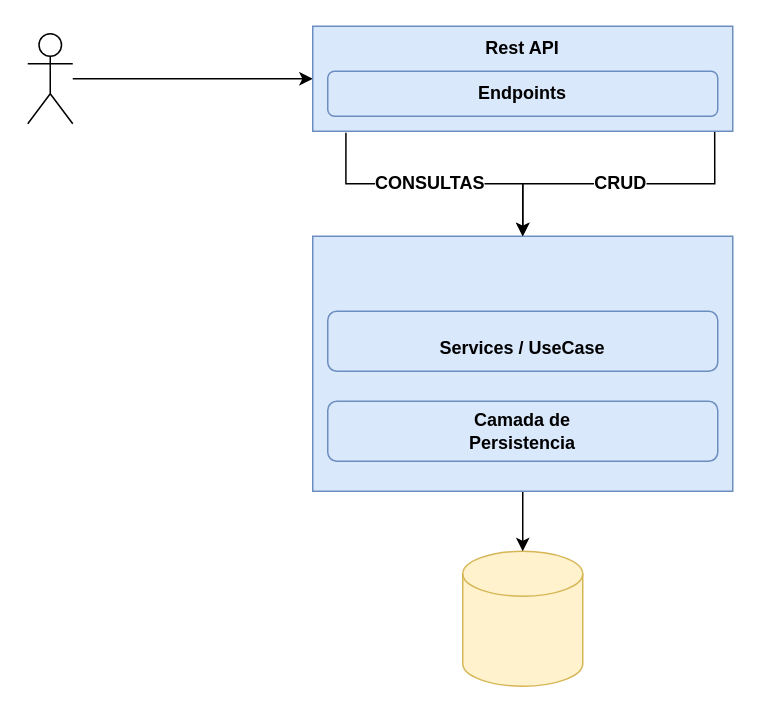
The diagram is 759 pixels wide and 713 high, and some of its shapes have lost their labels. Each missing label, with the centre of its shape:
Client: the point at 49,78
Finance DB MySQL: the point at 522,618
